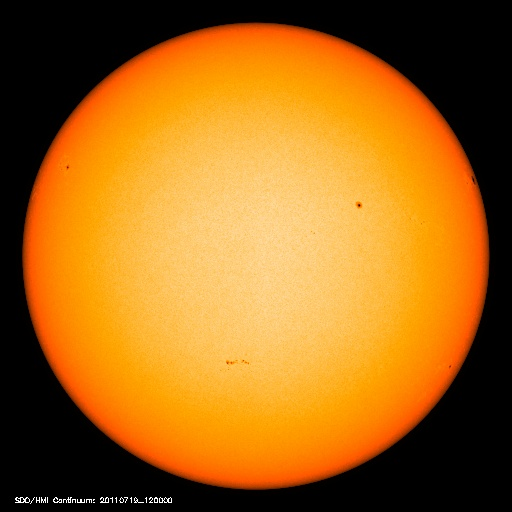sunspot: (218, 350, 260, 377), (343, 192, 376, 219), (52, 155, 81, 179), (438, 354, 463, 379), (462, 164, 483, 193)
